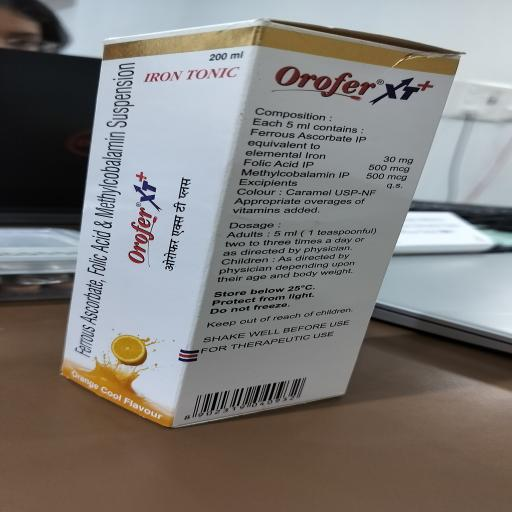iron-tonic: (142, 59, 441, 112)
syrup: (88, 32, 436, 418)
